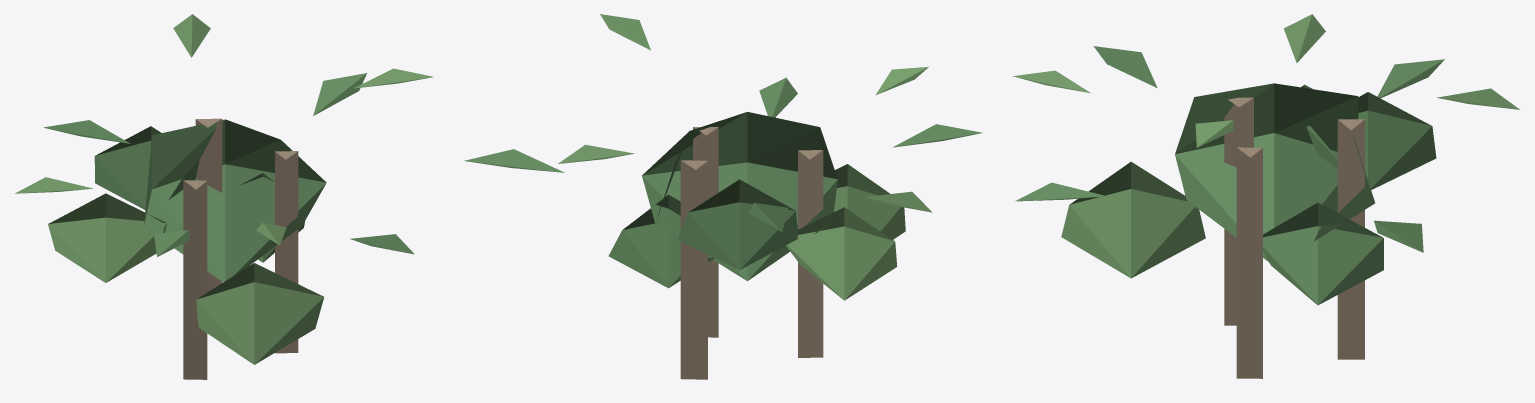
The model's file is guan.fusang@subadult__summer.glb.
The picture shows the model from 3 angles, left to right: view 1: azimuth 30°, elevation 25°; view 2: azimuth 150°, elevation 25°; view 3: azimuth 270°, elevation 25°; orthographic projection. The views are drawn at different scales.
Parts seen in each view (by area): view 1: guan.fusang@subadult__summer; view 2: guan.fusang@subadult__summer; view 3: guan.fusang@subadult__summer.
Part boxes in pixels (box(x1,y1,x2,y2)): guan.fusang@subadult__summer: box(15, 14, 433, 379); guan.fusang@subadult__summer: box(464, 14, 982, 379); guan.fusang@subadult__summer: box(1013, 14, 1519, 378).
Bounding box in the file's own units: 1.96 × 1.25 × 1.88.
